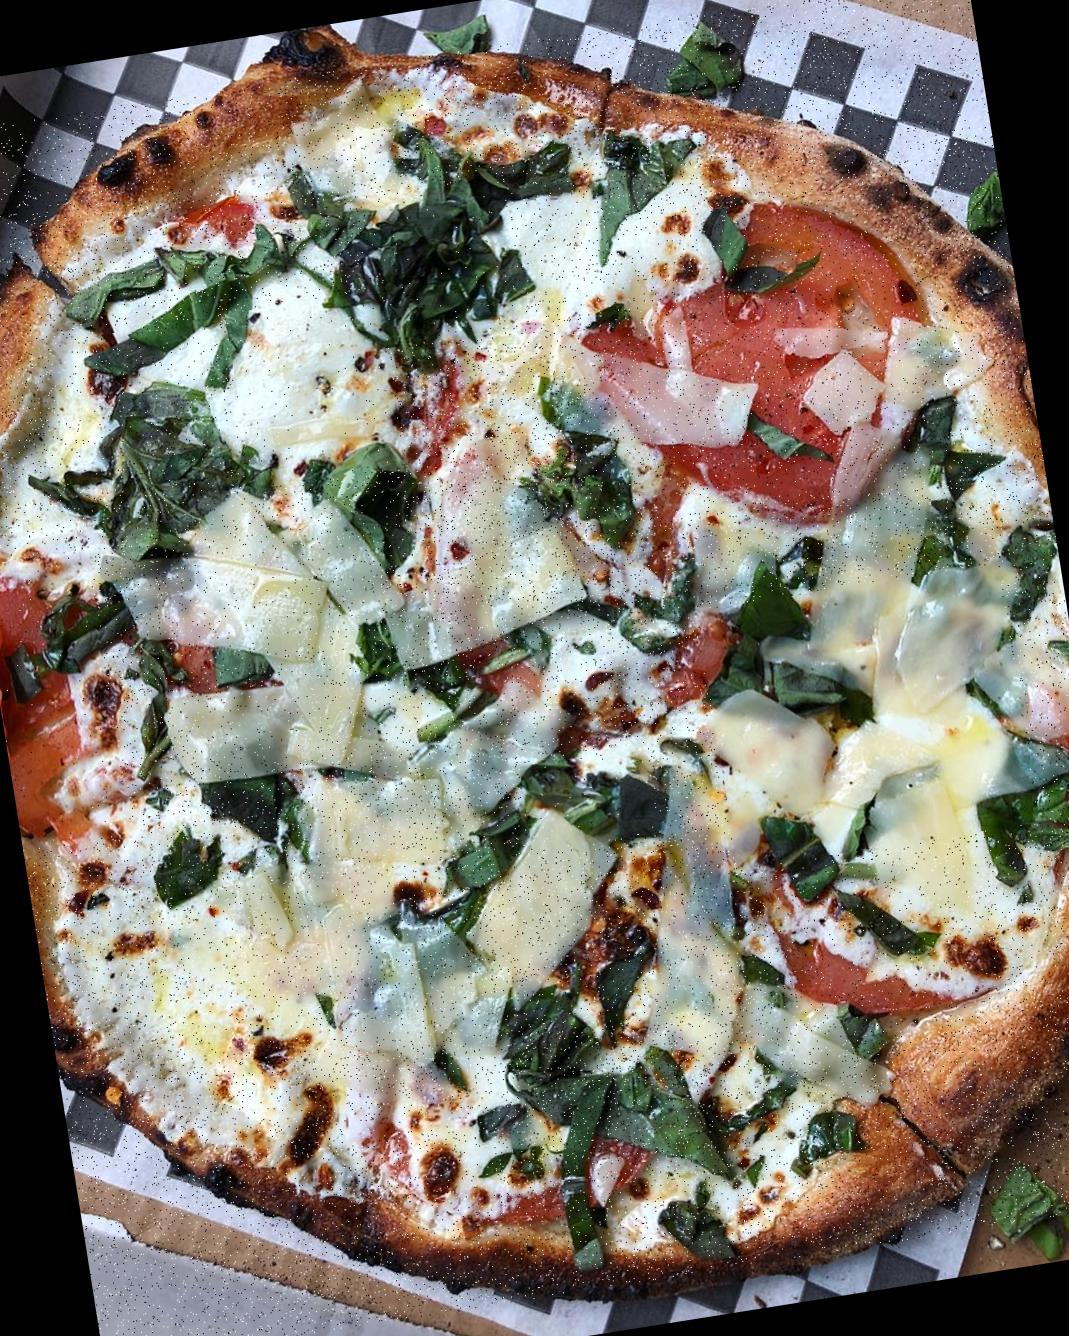Arugula: (47, 318, 236, 537), (512, 1009, 721, 1188), (356, 177, 525, 349), (519, 747, 659, 852)
Cheese: (697, 564, 1038, 870), (161, 807, 476, 1066), (178, 519, 396, 772), (406, 385, 618, 624), (225, 290, 407, 491)
Pizza: (0, 0, 1069, 1336)
Tomatoes: (618, 181, 946, 522), (759, 844, 1001, 1051), (0, 549, 130, 850)
